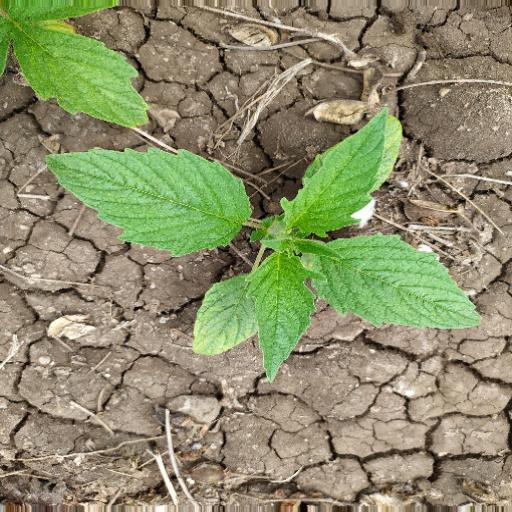crop: (45, 112, 488, 383)
